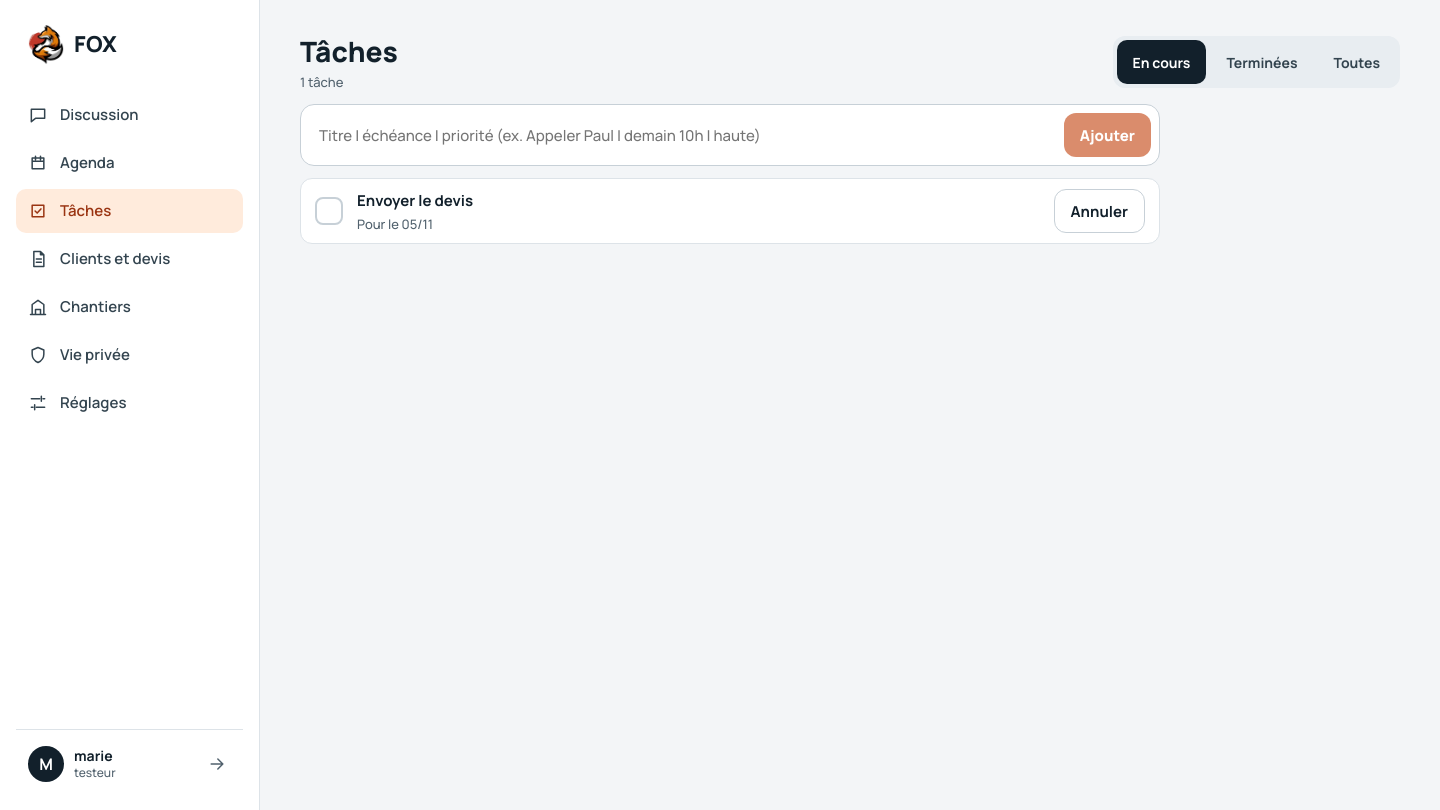
Test: Tâches › termine une tâche puis recharge la liste
Click the button named "Terminer : Envoyer le devis" at (329, 211), box top-left (315, 197), bottom-right (343, 225)
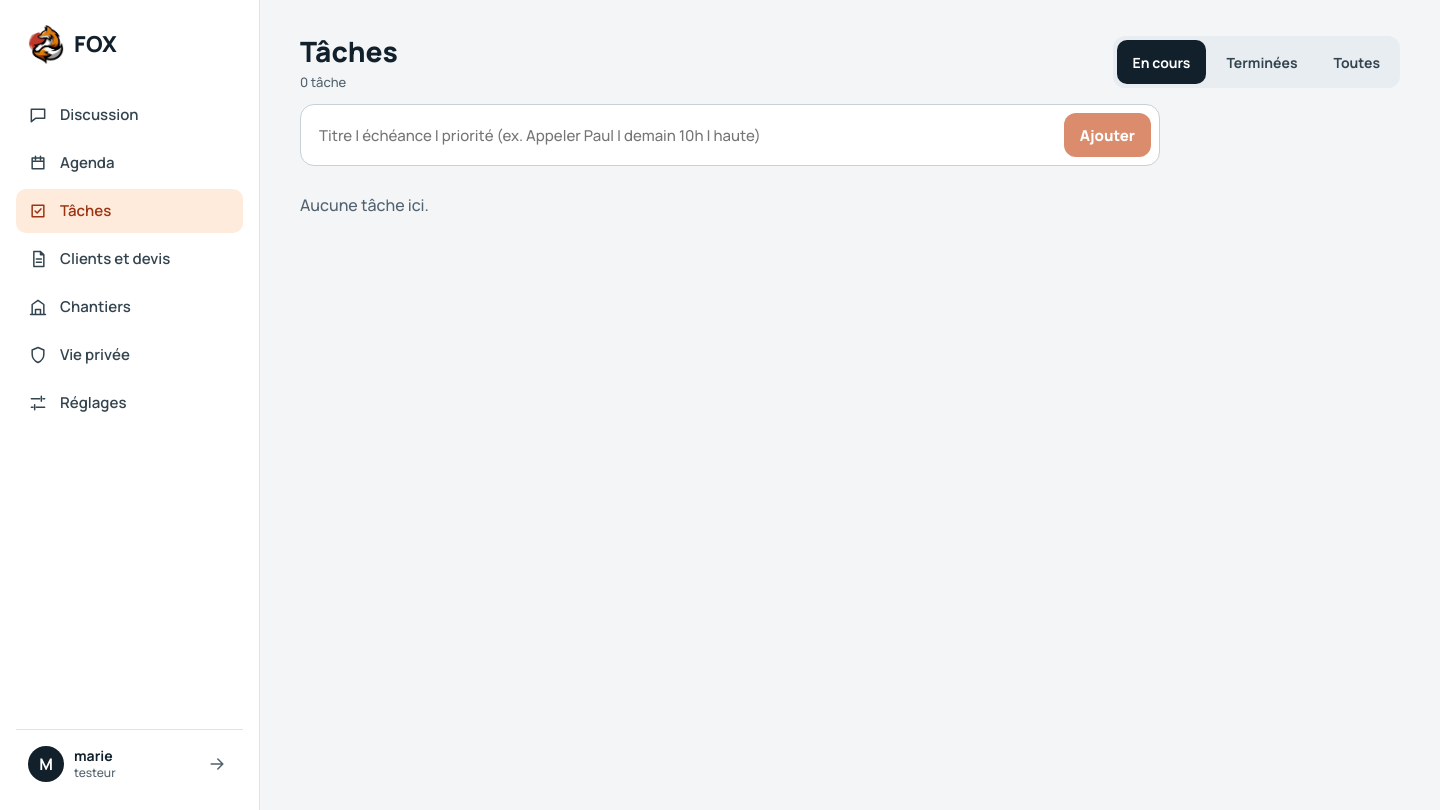
Now the text "Aucune tâche ici." is shown, box top-left (300, 194), bottom-right (429, 216)
